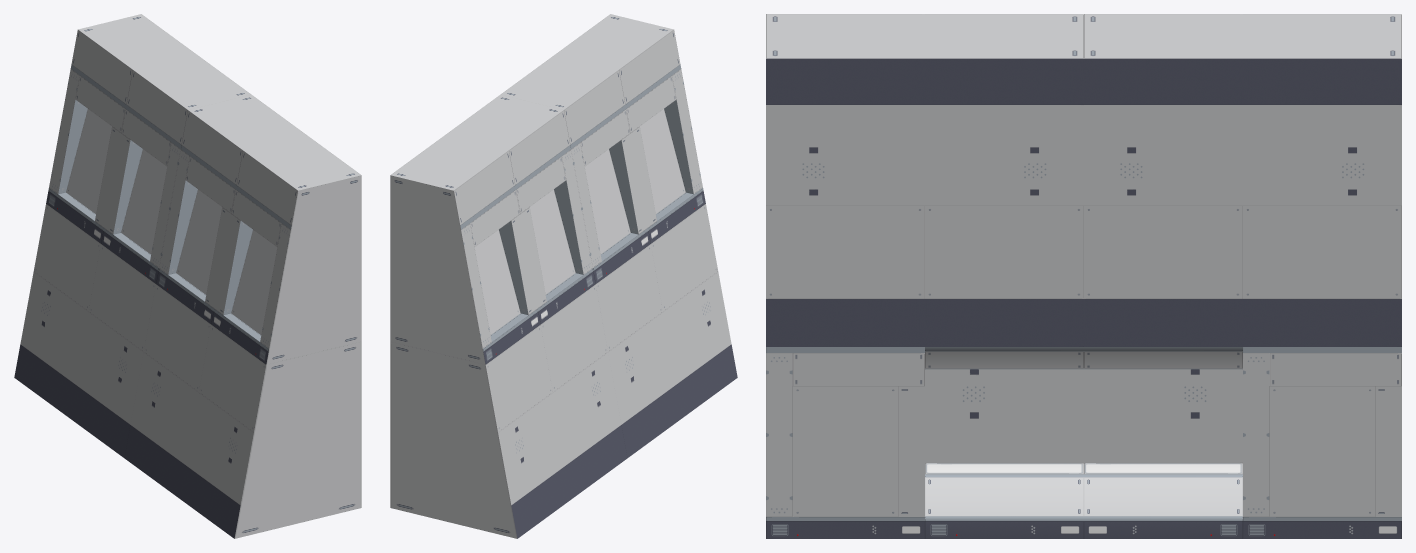
File: Wall_Big_Simple_02.FBX
3 renders of one model, left to right at view 1: azimuth 30°, elevation 25°; view 2: azimuth 150°, elevation 25°; view 3: azimuth 270°, elevation 25°, orthographic. The views are drawn at different scales.
Parts seen in each view (by area): view 1: Wall_Big_Simple_02; view 2: Wall_Big_Simple_02; view 3: Wall_Big_Simple_02.
Part boxes in pixels (x1,y1,x2,y2): Wall_Big_Simple_02: (14, 14, 361, 538); Wall_Big_Simple_02: (390, 14, 737, 538); Wall_Big_Simple_02: (766, 14, 1401, 538).
Bounding box in the file's own units: 4 × 10 × 12.
Materials: 2 (2 with a texture image).
